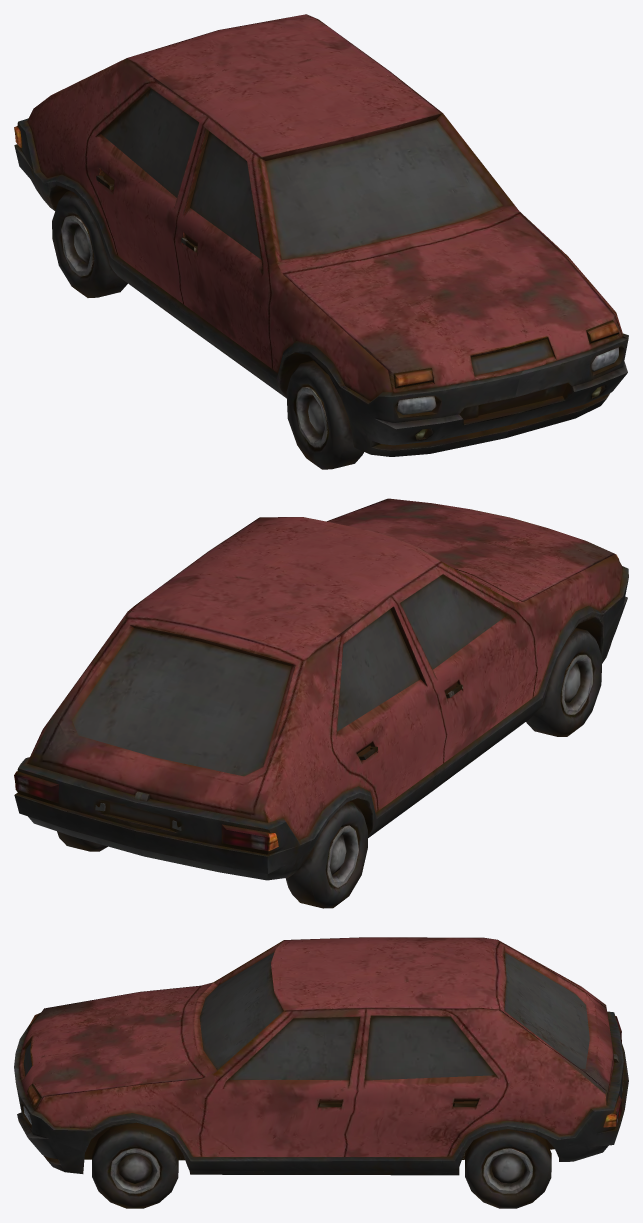
The model's file is carro-v1.glb.
3 views of the same model, one above another, from view 1: azimuth 30°, elevation 25°; view 2: azimuth 150°, elevation 25°; view 3: azimuth 270°, elevation 25° (orthographic). The views are drawn at different scales.
Parts seen in each view (by area): view 1: carroceria, roda_fd, roda_td; view 2: carroceria, roda_td, roda_fd; view 3: carroceria, roda_fe, roda_te.
Part boxes in pixels (x1,y1,x2,y2): carroceria: (14,14,628,456); roda_fd: (286,360,363,469); roda_td: (52,191,127,297); carroceria: (14,498,628,880); roda_td: (285,801,367,908); roda_fd: (526,628,602,736); carroceria: (14,937,628,1175); roda_fe: (92,1122,178,1208); roda_te: (465,1129,551,1208).
Bounding box in the file's own units: 1.61 × 1.37 × 3.95.
Materials: 1 (1 with a texture image).
